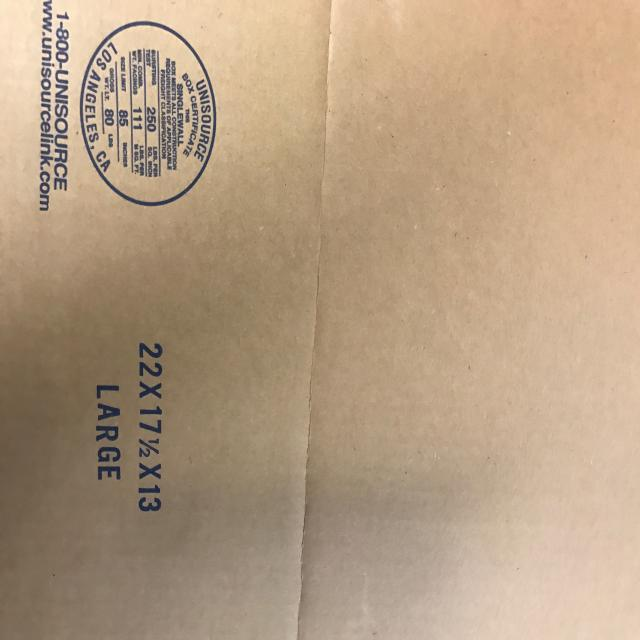cardboard: (1, 1, 330, 638)
